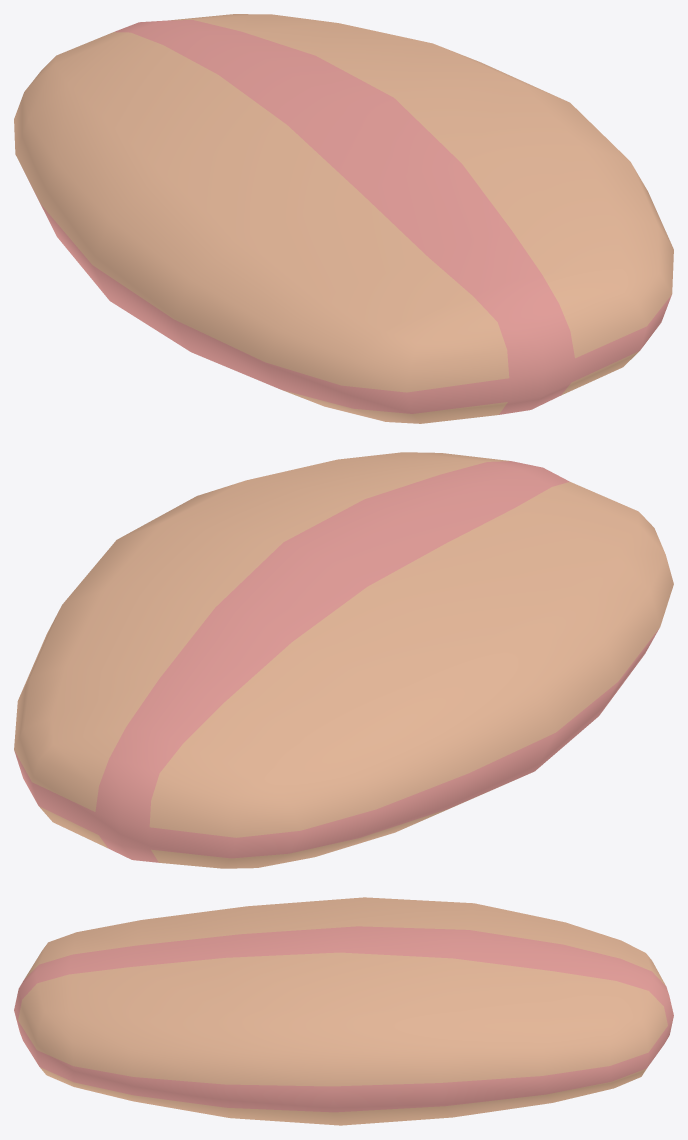
File: seed.glb
The picture shows the model from 3 angles, top to bottom: view 1: azimuth 30°, elevation 25°; view 2: azimuth 150°, elevation 25°; view 3: azimuth 270°, elevation 25°; orthographic projection. The views are drawn at different scales.
Parts seen in each view (by area): view 1: seed; view 2: seed; view 3: seed.
Boxes of the visible parts, x1,y1,x2,y2 form: seed: [14, 14, 673, 423]; seed: [14, 452, 673, 868]; seed: [14, 897, 673, 1125].
Size of the model in its own units: 0.8015 by 0.3407 by 1.25.
Materials: 1 (1 with a texture image).
